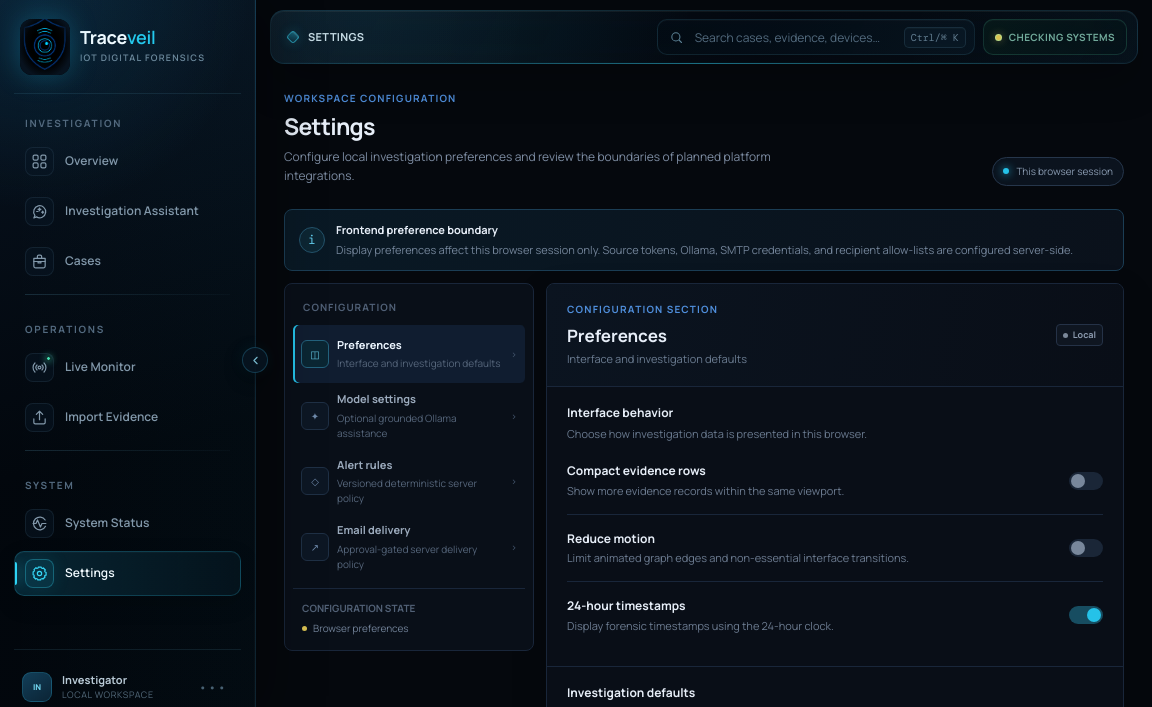
Scenario: Traceveil investigation interface › renders stateful settings with honest capability boundaries
Expected: the heading "Settings" is shown, 284,110 -> 375,142
Expected: the text "Frontend preference boundary" is shown, 336,222 -> 498,236
Click the checkbox named "Compact evidence rows" at (1086, 480), box 1069,472 -> 1103,490
(page scrolled)
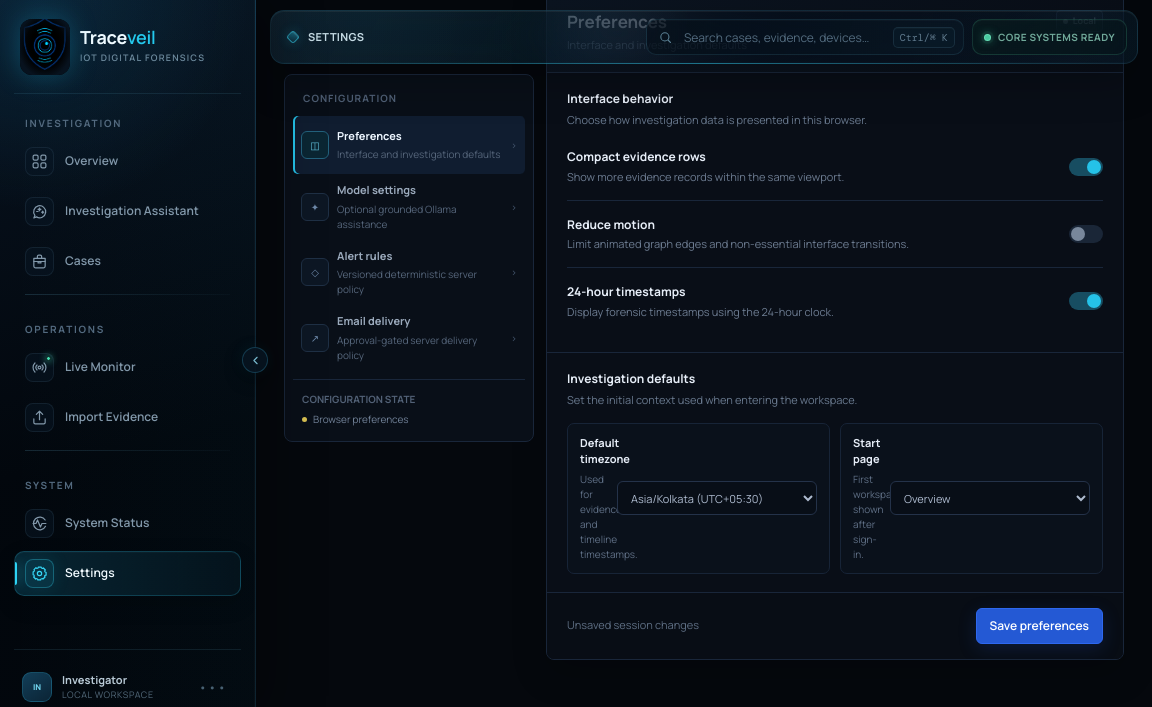
Expected: the text "Unsaved session changes" is shown, 567,617 -> 699,634
Click the button "Save preferences" at (1039, 626), box 976,608 -> 1103,644
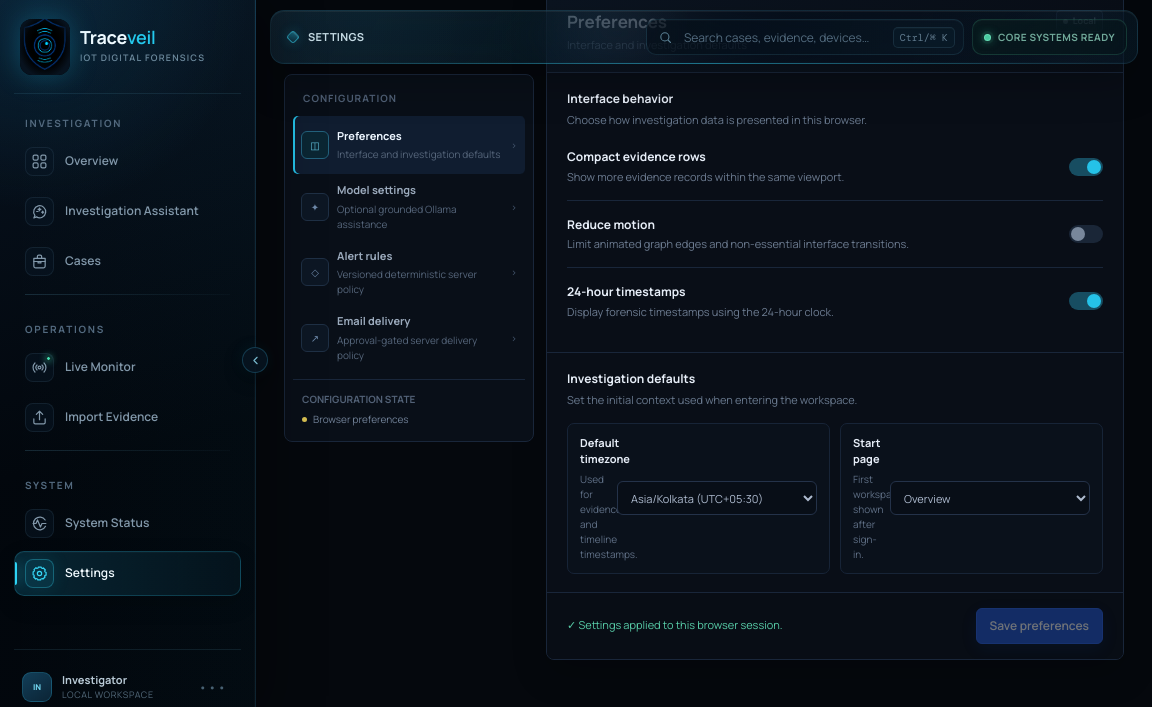
Expected: the text "✓ Settings applied to this browser session." is shown, 567,617 -> 783,634
Click the button "✦ Model settings Optional grounded Ollama assistance ›" at (409, 207), box 293,174 -> 525,240
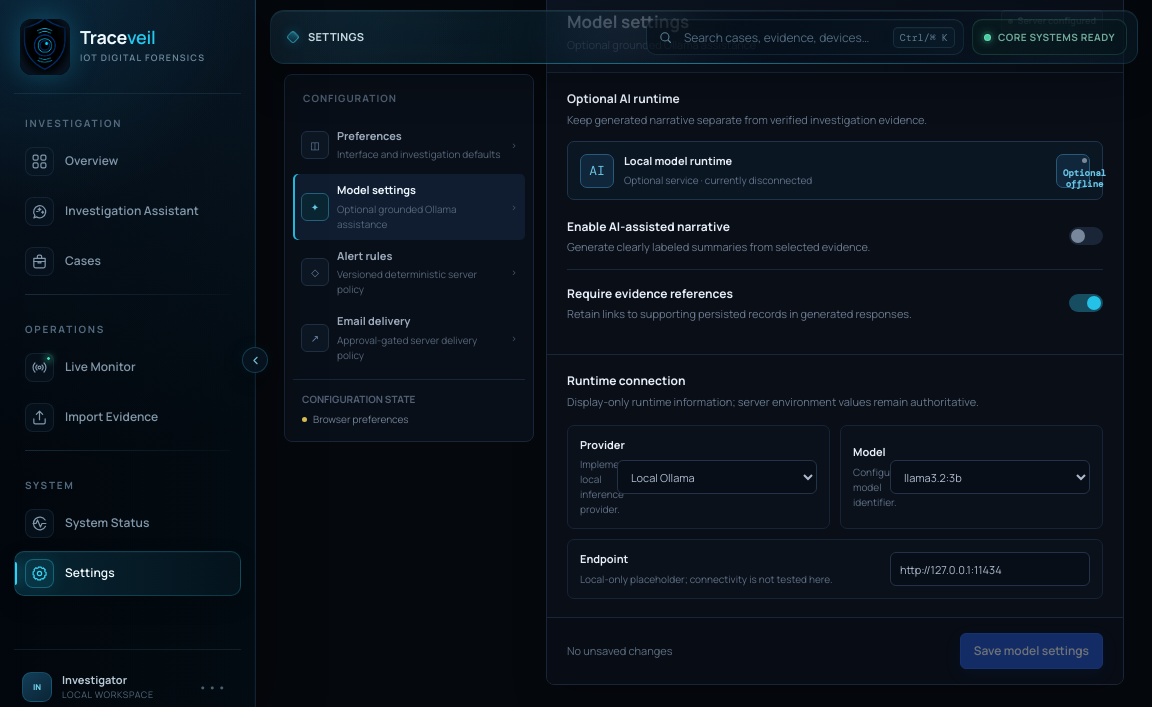
Expected: the heading "Optional AI runtime" is shown, 567,90 -> 680,107
Click the button "↗ Email delivery Approval-gated server delivery policy ›" at (409, 338), box 293,305 -> 525,370
(page scrolled)
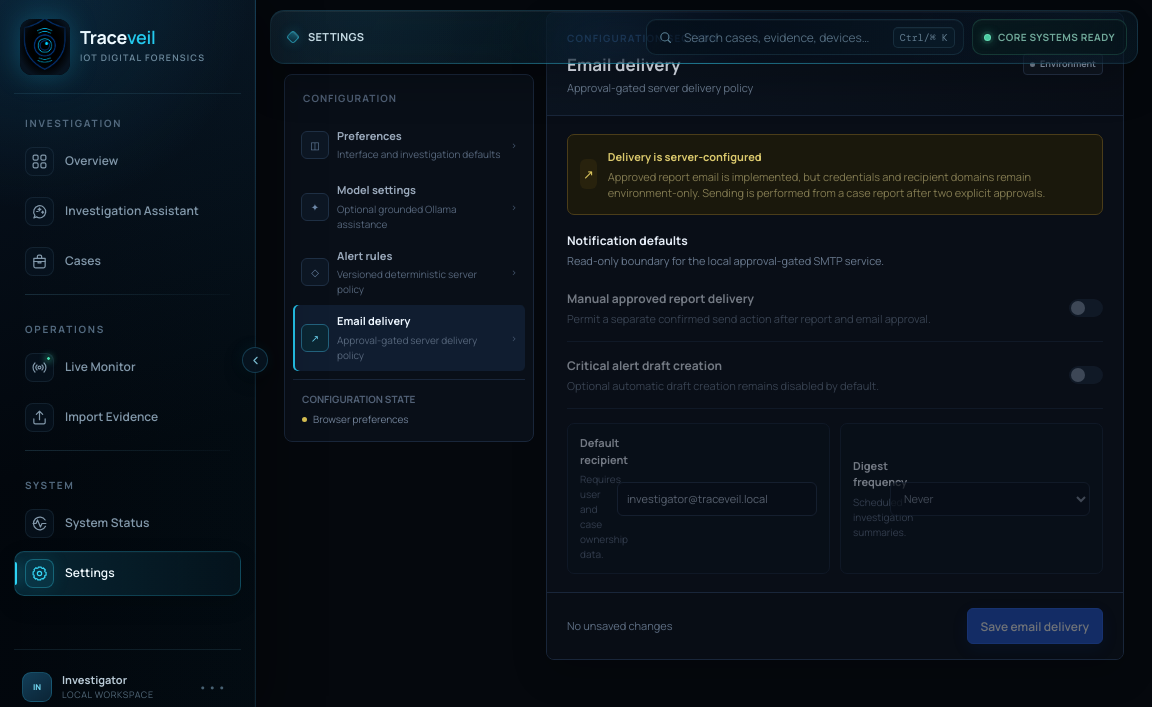
Expected: the button "Save email delivery" is disabled, 966,608 -> 1103,644
Expected: the text "Delivery is server-configured" is shown, 608,149 -> 762,164
